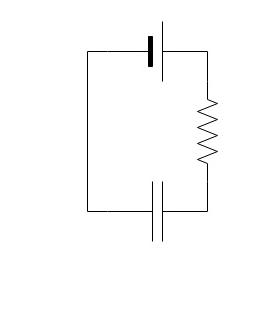resistor: (186, 88, 226, 175)
